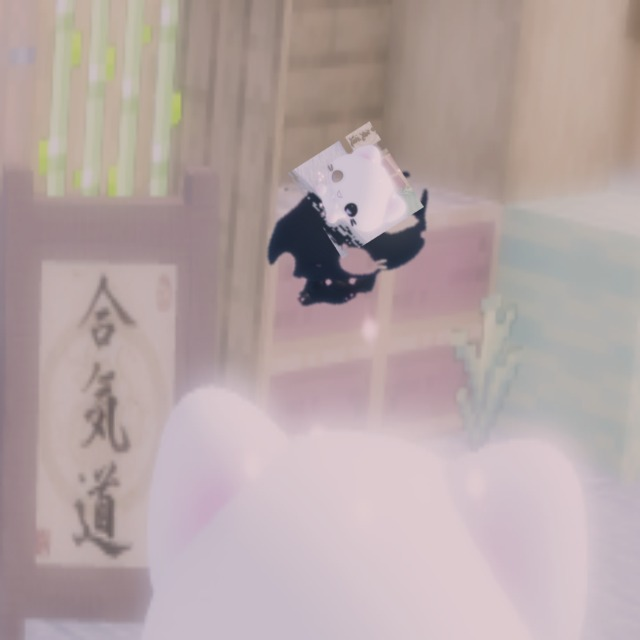urso_branco: (288, 121, 424, 259)
urso_preto: (221, 131, 478, 343)
